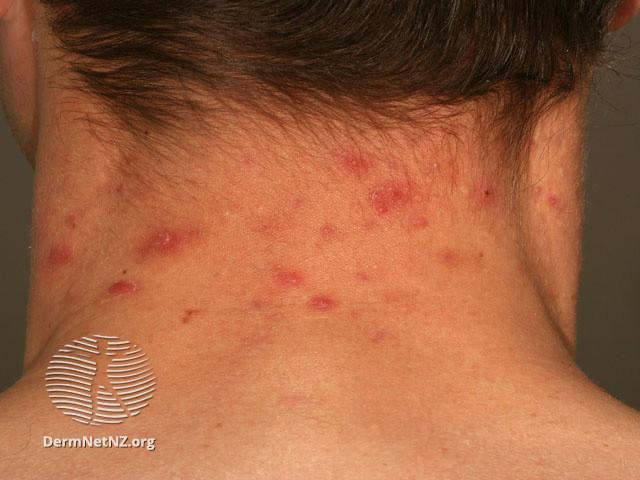Folliculitis: (340, 140, 421, 237), (269, 257, 350, 319), (129, 221, 205, 255), (107, 275, 159, 313), (463, 178, 509, 215), (47, 243, 85, 270), (56, 207, 91, 232), (539, 193, 568, 215)
